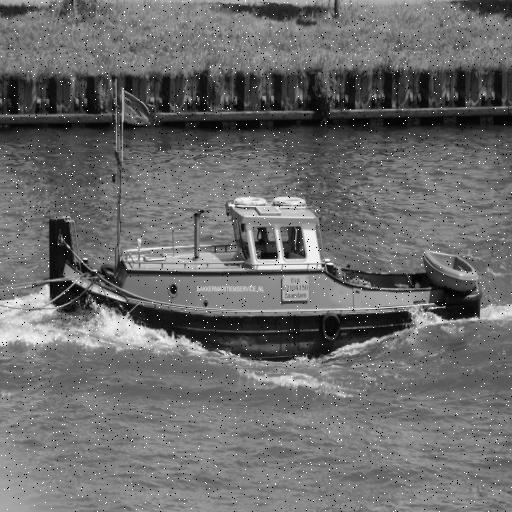tugboat: (46, 172, 488, 385)
